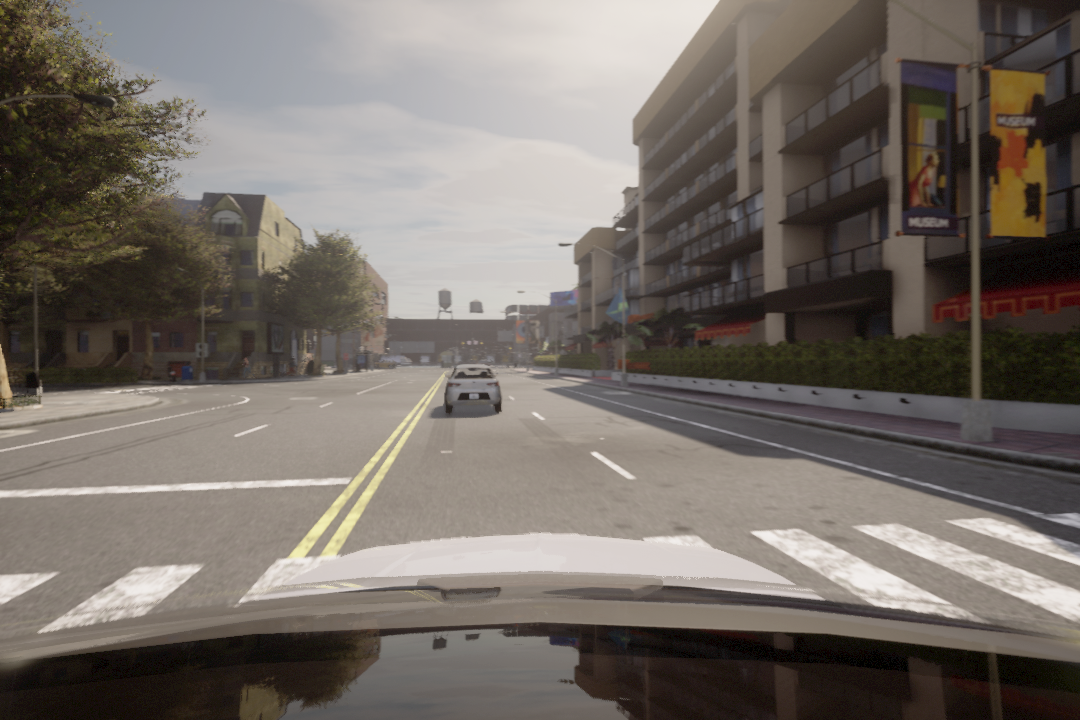walkside: (8, 516, 1080, 644)
